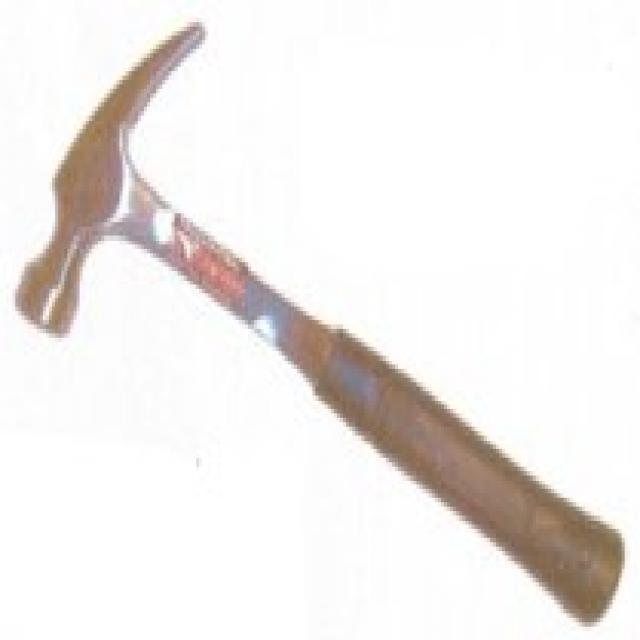hammer: (0, 1, 632, 636)
